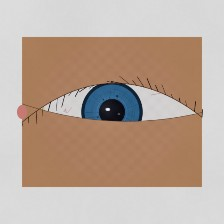pinguecula_lesion: (23, 99, 53, 122)
